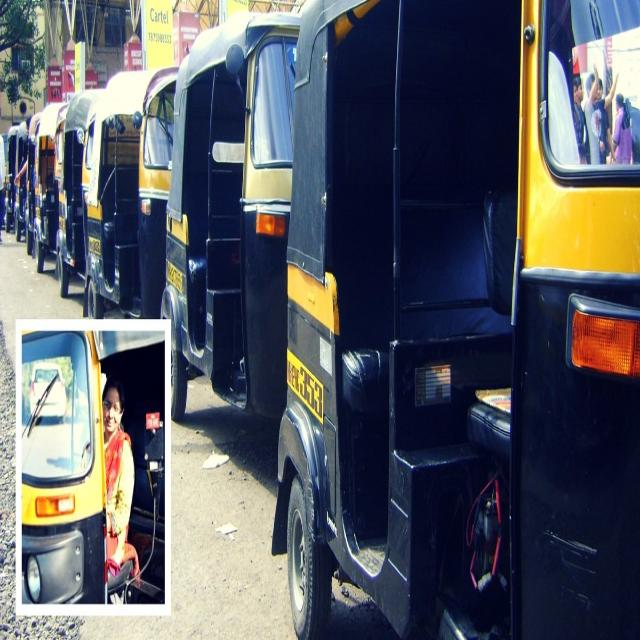autorickshaw: (274, 0, 640, 639), (161, 12, 300, 418), (84, 68, 178, 318), (58, 88, 102, 296), (34, 103, 61, 272)
